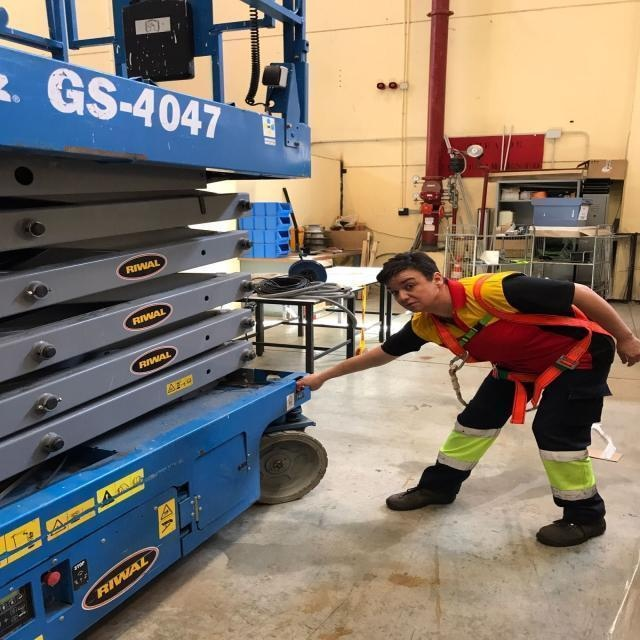Arnes_seguridad: (422, 273, 610, 414)
